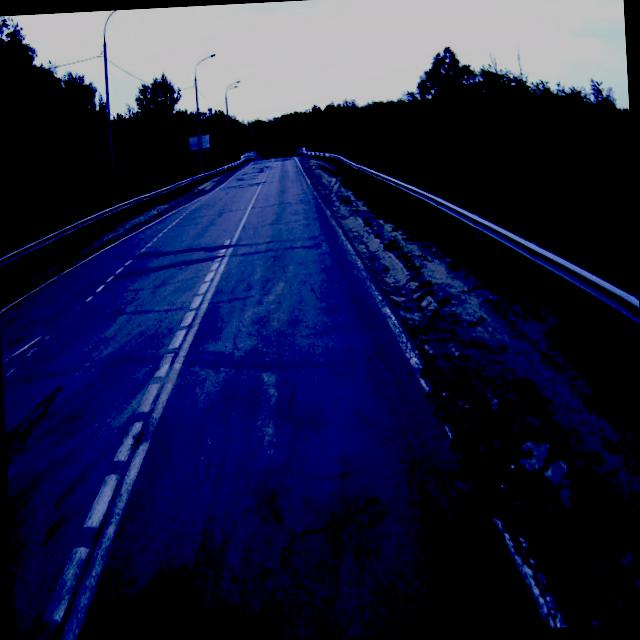road: (0, 157, 557, 640)
